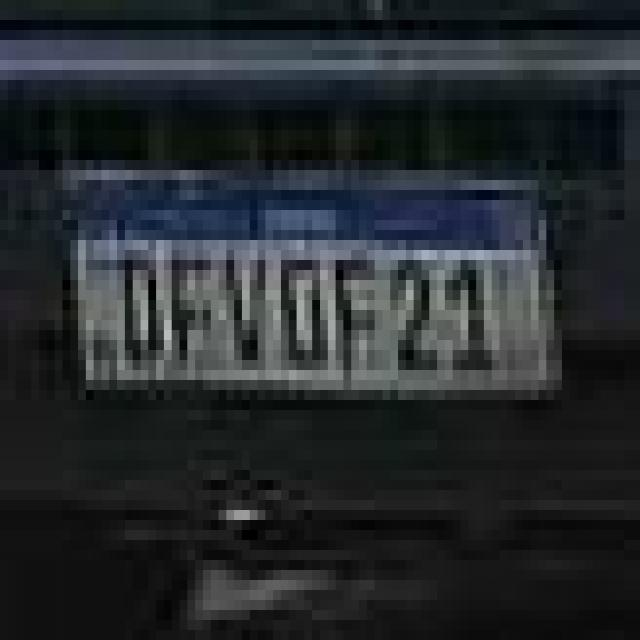0: (278, 249, 326, 373)
1: (446, 255, 502, 382)
D: (120, 246, 162, 375)
F: (334, 248, 384, 380), (165, 246, 215, 374)
V: (222, 250, 269, 370)
